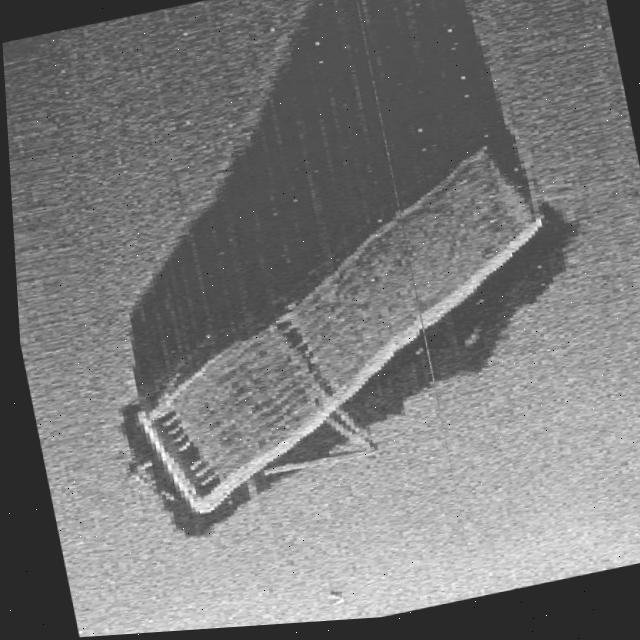shipwreck: (88, 141, 587, 527)
